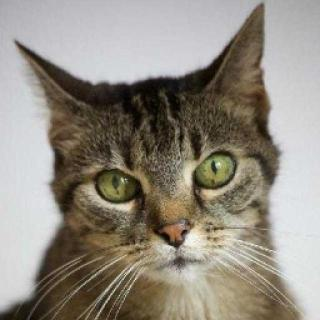cat: (25, 34, 298, 295)
nose: (153, 213, 195, 253)
